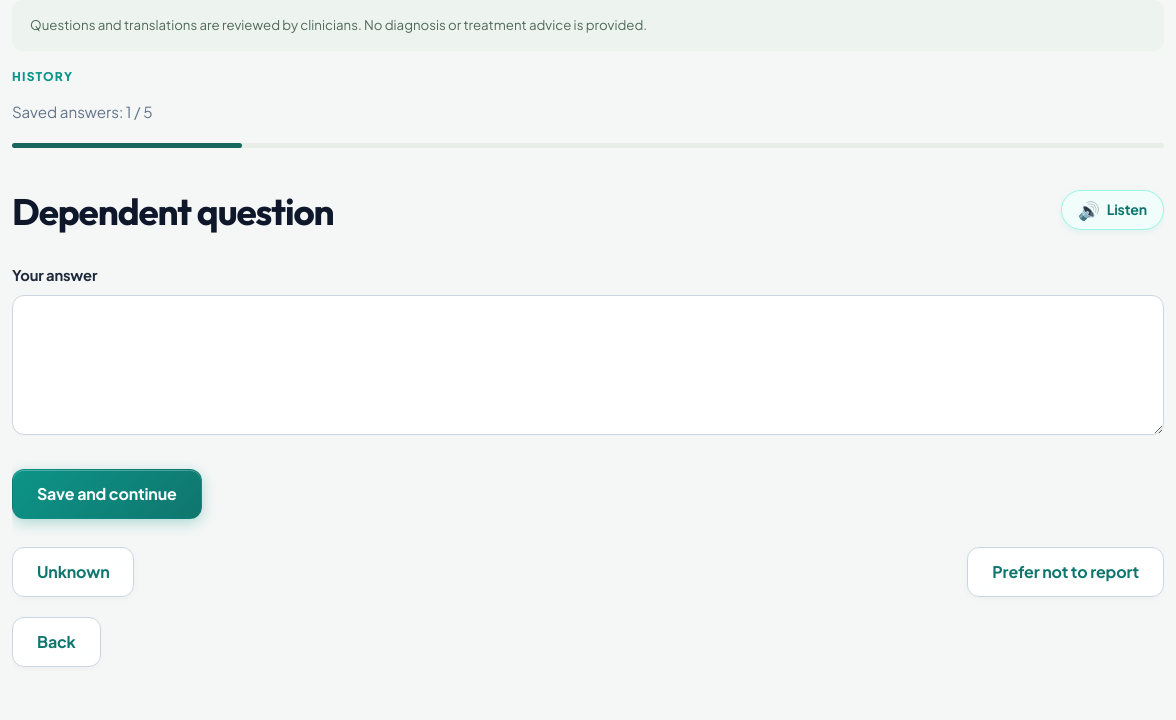
uses server navigation and branch recalculation after editing an earlier answer
The image size is (1176, 720).
Expected: the heading "Dependent question" is shown, [12,188,334,235]
Click the button "Back". click: [56, 642]
box: [12,617,101,667]
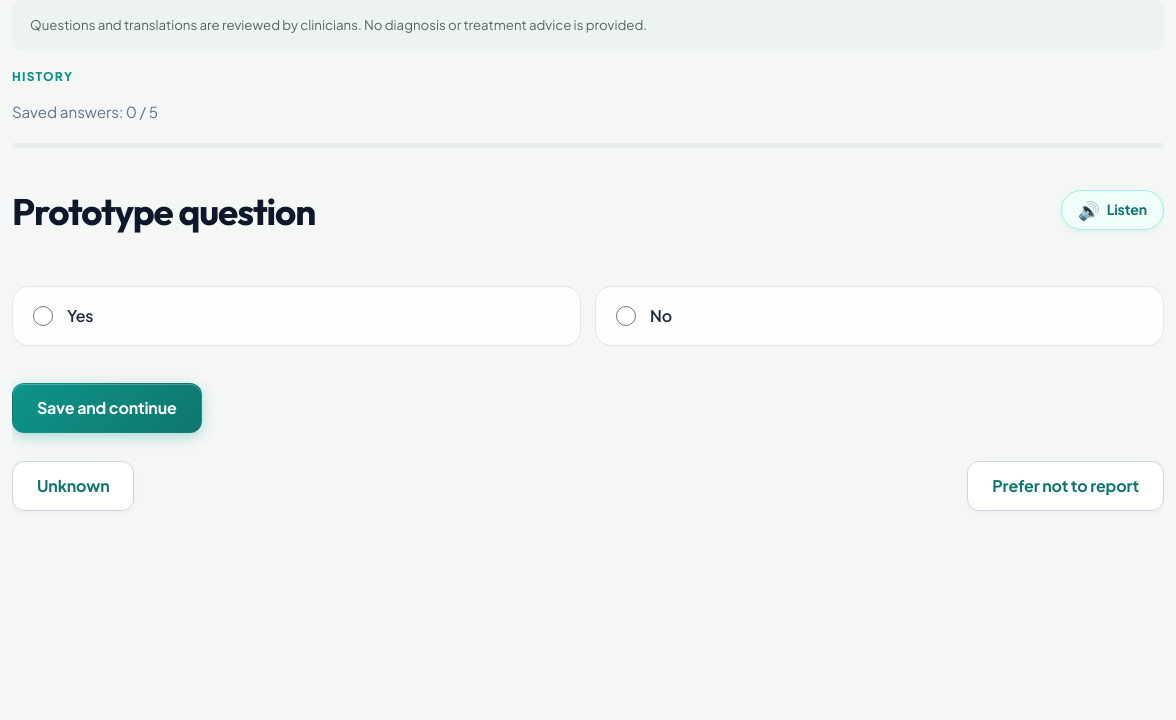
Now the heading "Prototype question" is shown, box [12,188,315,235]
Click the radio button labelled "No". click: [626, 316]
box: [616,306,636,326]
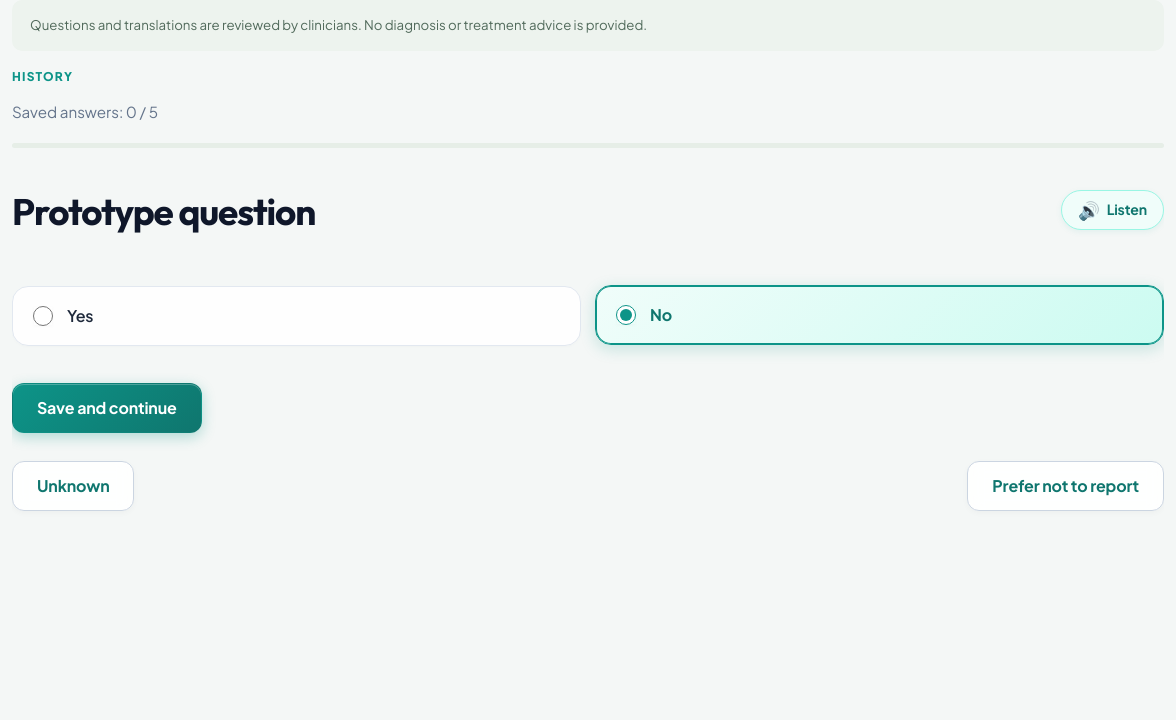
Click the button "Save and continue". click: [107, 408]
box: [12,383,202,433]
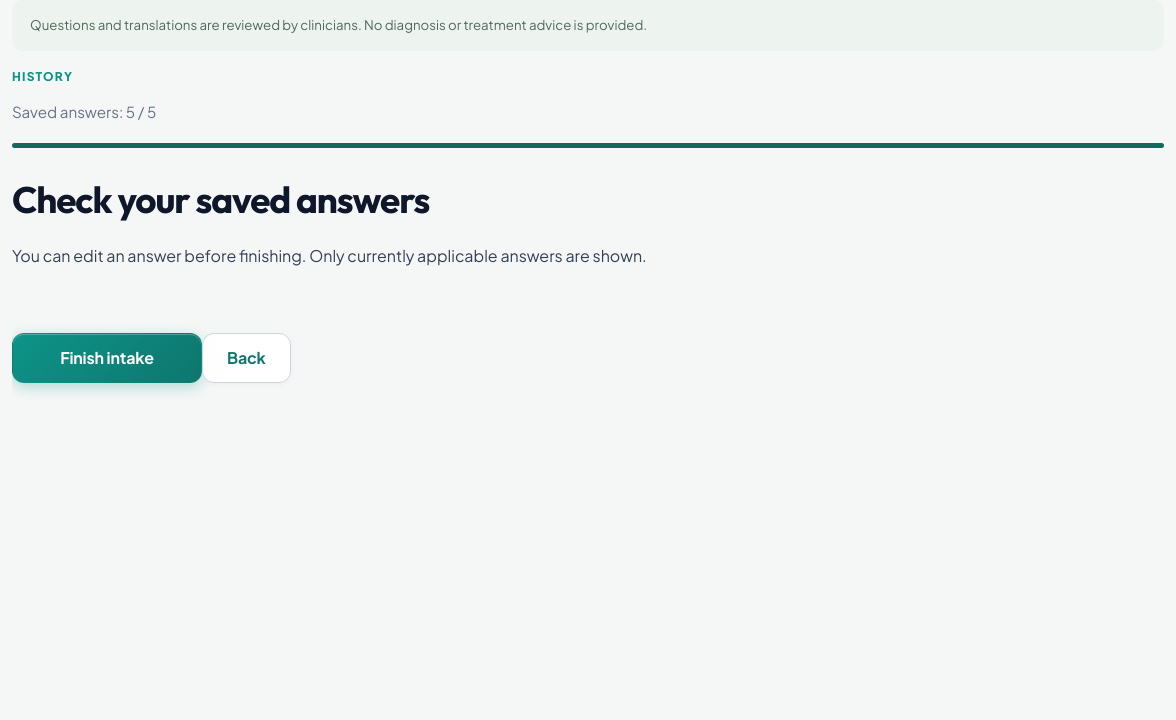
Expected: the heading "Dependent question" is not shown
Now the heading "Check your saved answers" is shown, box [12,176,429,223]
